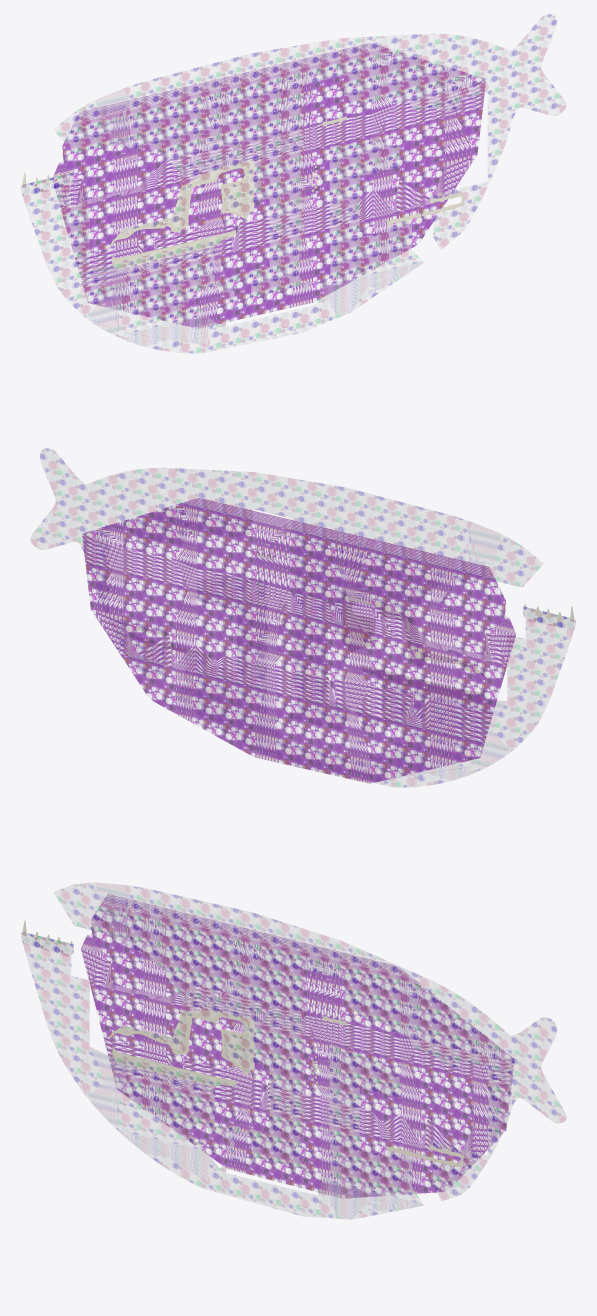
File: tainai01.glb
3 views of the same model, one above another, from view 1: azimuth 30°, elevation 25°; view 2: azimuth 150°, elevation 25°; view 3: azimuth 330°, elevation 25° (orthographic).
Visible parts, largest first — view 1: tainai01; view 2: tainai01; view 3: tainai01.
Boxes of the visible parts, left/top/right/bottom form: tainai01: left=20, top=14, right=566, bottom=353; tainai01: left=30, top=448, right=575, bottom=787; tainai01: left=21, top=882, right=566, bottom=1219.
Size of the model in its own units: 5716 by 2962 by 254.
Materials: 4 (4 with a texture image).
